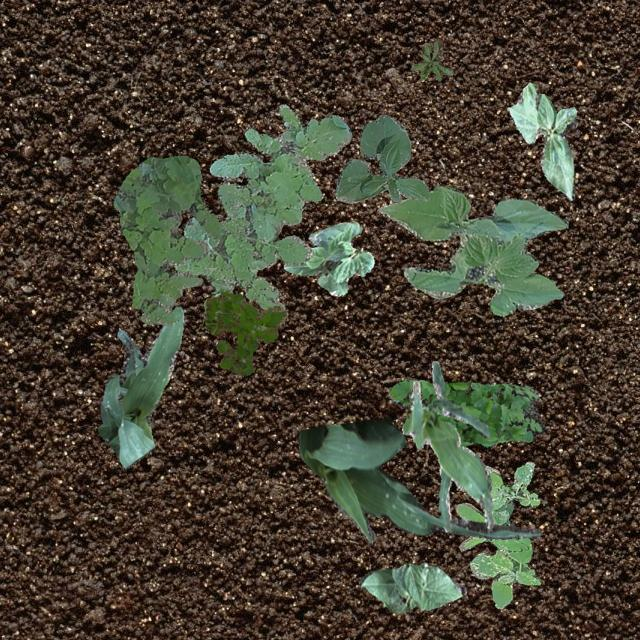crop: (296, 418, 540, 542), (377, 186, 568, 314), (400, 360, 492, 530), (96, 306, 182, 468), (334, 114, 428, 202), (508, 82, 578, 200), (282, 220, 373, 294), (358, 562, 466, 612)
weed: (174, 103, 350, 310), (112, 154, 220, 323), (454, 460, 540, 608), (388, 378, 544, 446), (205, 290, 286, 374), (410, 37, 452, 80)
